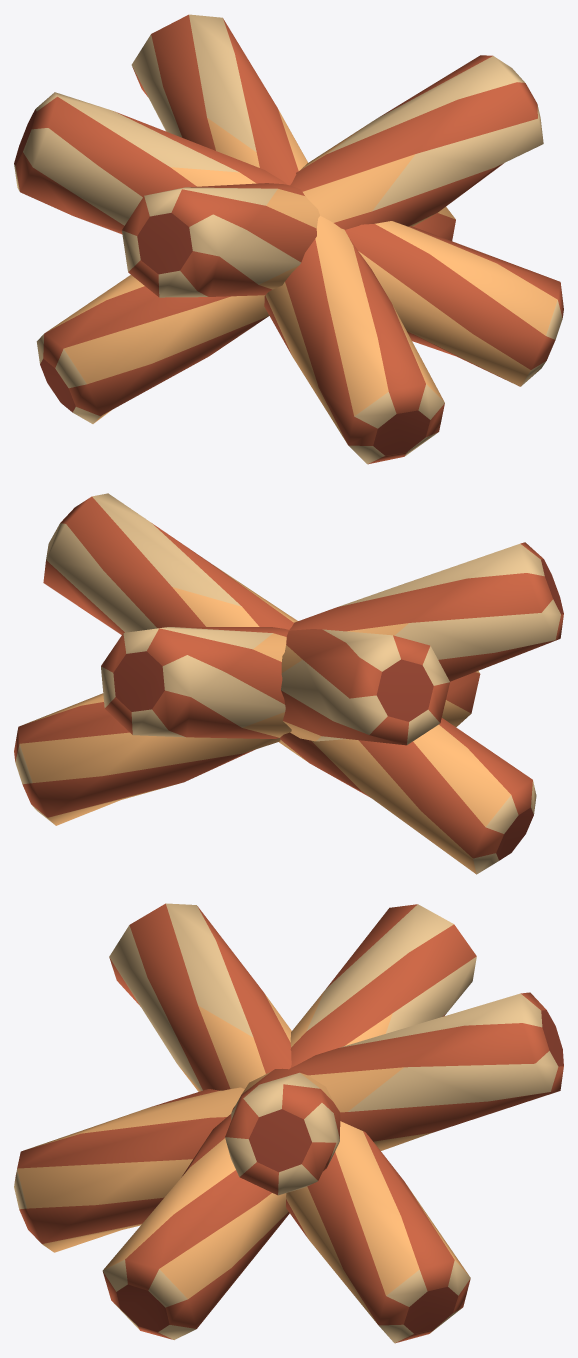
The model's file is lenha_lareira_natal_pacote.glb.
The picture shows the model from 3 angles, top to bottom: view 1: azimuth 30°, elevation 25°; view 2: azimuth 150°, elevation 25°; view 3: azimuth 270°, elevation 25°; orthographic projection.
Parts seen in each view (by area): view 1: lenha_lareira_natal_pacote; view 2: lenha_lareira_natal_pacote; view 3: lenha_lareira_natal_pacote.
Boxes of the visible parts, <box> form: lenha_lareira_natal_pacote: <box>14,14,563,464</box>; lenha_lareira_natal_pacote: <box>14,493,563,874</box>; lenha_lareira_natal_pacote: <box>14,903,563,1343</box>.
Size of the model in its own units: 0.3975 by 0.2135 by 0.3968.
1 material, 1 textured.
